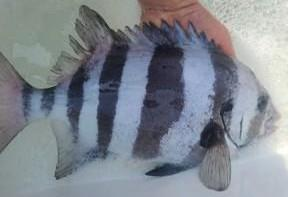fish: (0, 6, 281, 194)
